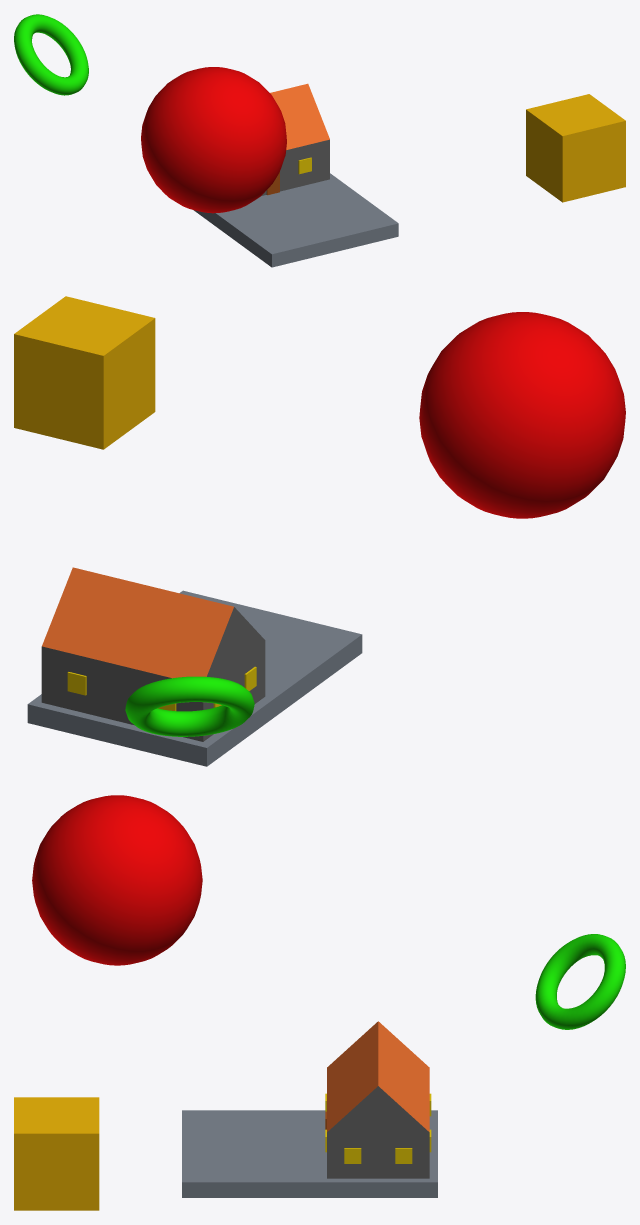
The picture shows the model from 3 angles, top to bottom: view 1: azimuth 30°, elevation 25°; view 2: azimuth 150°, elevation 25°; view 3: azimuth 270°, elevation 25°; orthographic projection. The views are drawn at different scales.
Visible parts, largest first — view 1: Sphere, fundament, Cube, Torus, roof, wall; view 2: Sphere, Cube, roof, fundament, wall, Torus; view 3: Sphere, fundament, Cube, roof, wall, Torus.
Part boxes in pixels (x1,y1,x2,y2): Sphere: [141, 67, 286, 213]; fundament: [193, 173, 398, 267]; Cube: [526, 94, 625, 202]; Torus: [14, 14, 88, 95]; roof: [270, 83, 329, 149]; wall: [261, 139, 329, 195]; Sphere: [419, 312, 625, 518]; Cube: [14, 296, 155, 449]; roof: [42, 567, 233, 678]; fundament: [27, 590, 362, 766]; wall: [41, 607, 265, 741]; Torus: [125, 676, 254, 736]; Sphere: [32, 795, 202, 965]; fundament: [182, 1110, 437, 1197]; Cube: [14, 1097, 99, 1210]; roof: [327, 1021, 429, 1131]; wall: [327, 1086, 429, 1178]; Torus: [535, 934, 625, 1029].
Size of the model in its own units: 67.95 by 35.43 by 71.74.
